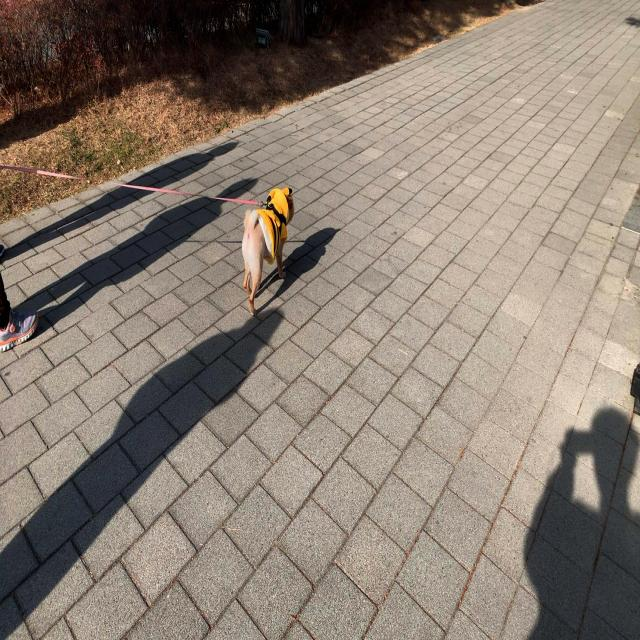Dog: (235, 183, 296, 319)
